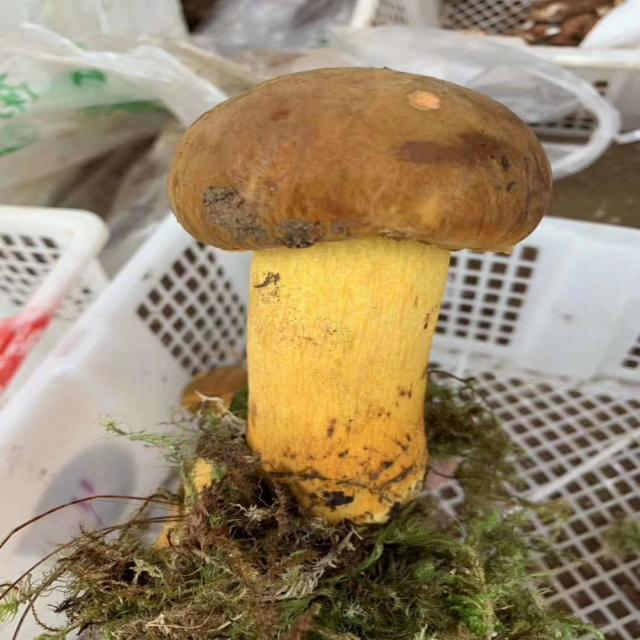Boletus: (173, 66, 547, 523)
